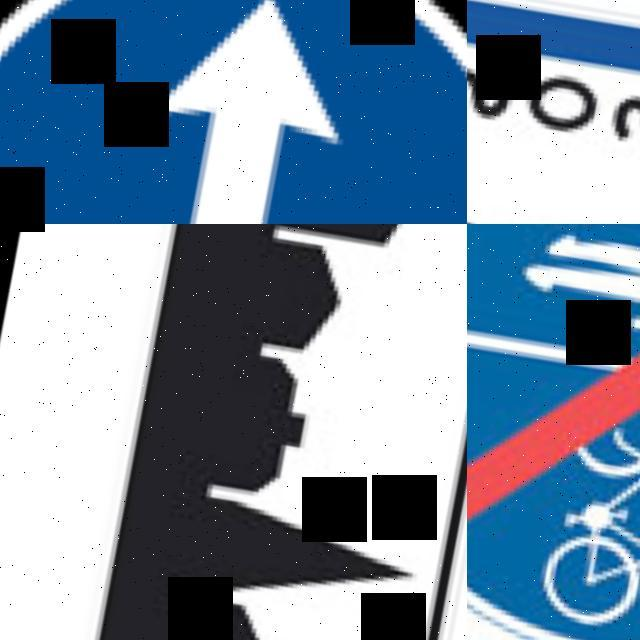112: (467, 224, 640, 640)
127: (63, 224, 467, 640)
79: (467, 0, 640, 224)
Turn Right: (0, 0, 467, 224)
